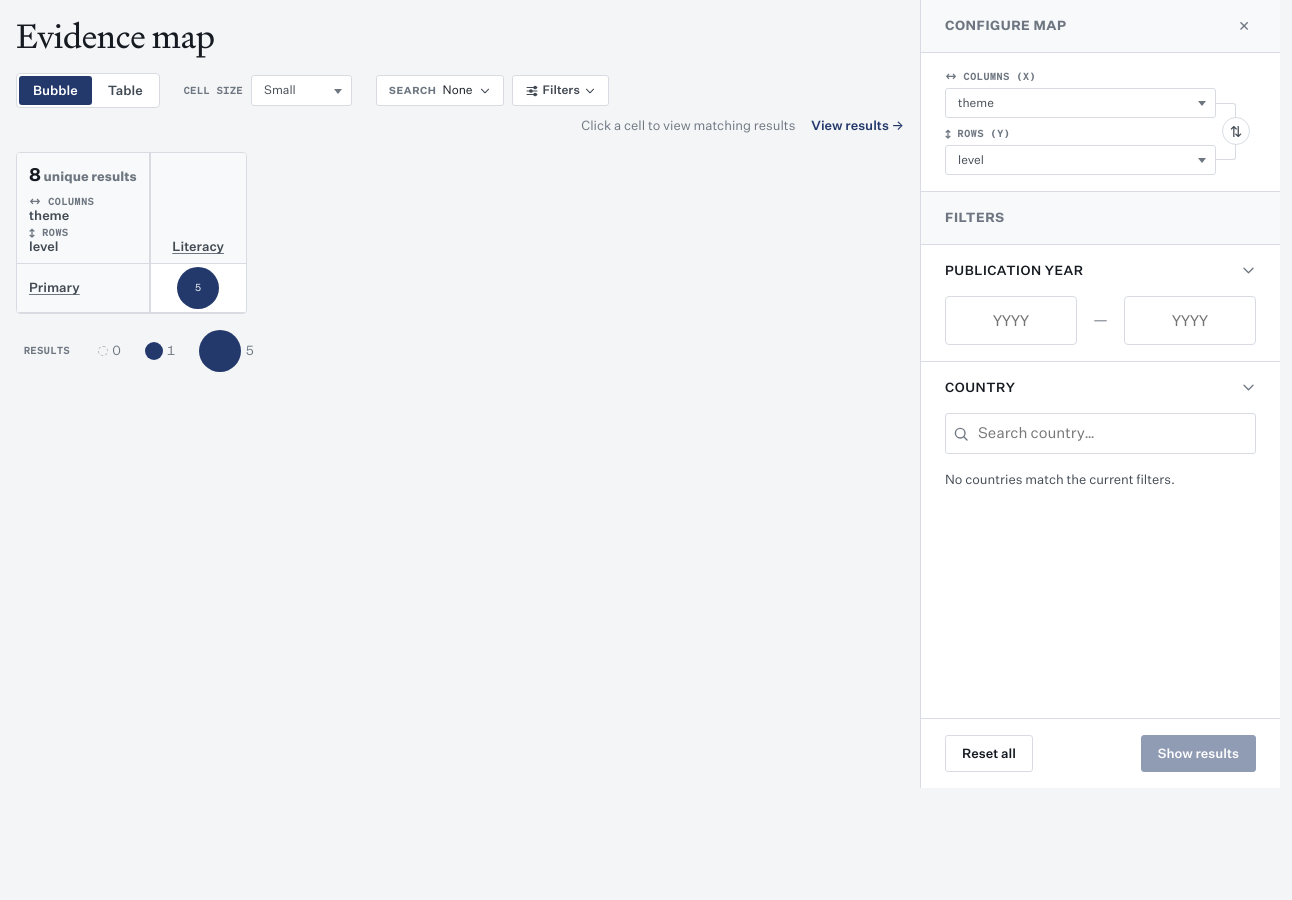
Test case: VisualisePage map › toggling to the table view shows counts as text
Expected: the element with class "evidence-map__legend" is shown, [16,330,262,372]
Click the button "Table".
click(125, 91)  # box [94,76,157,105]
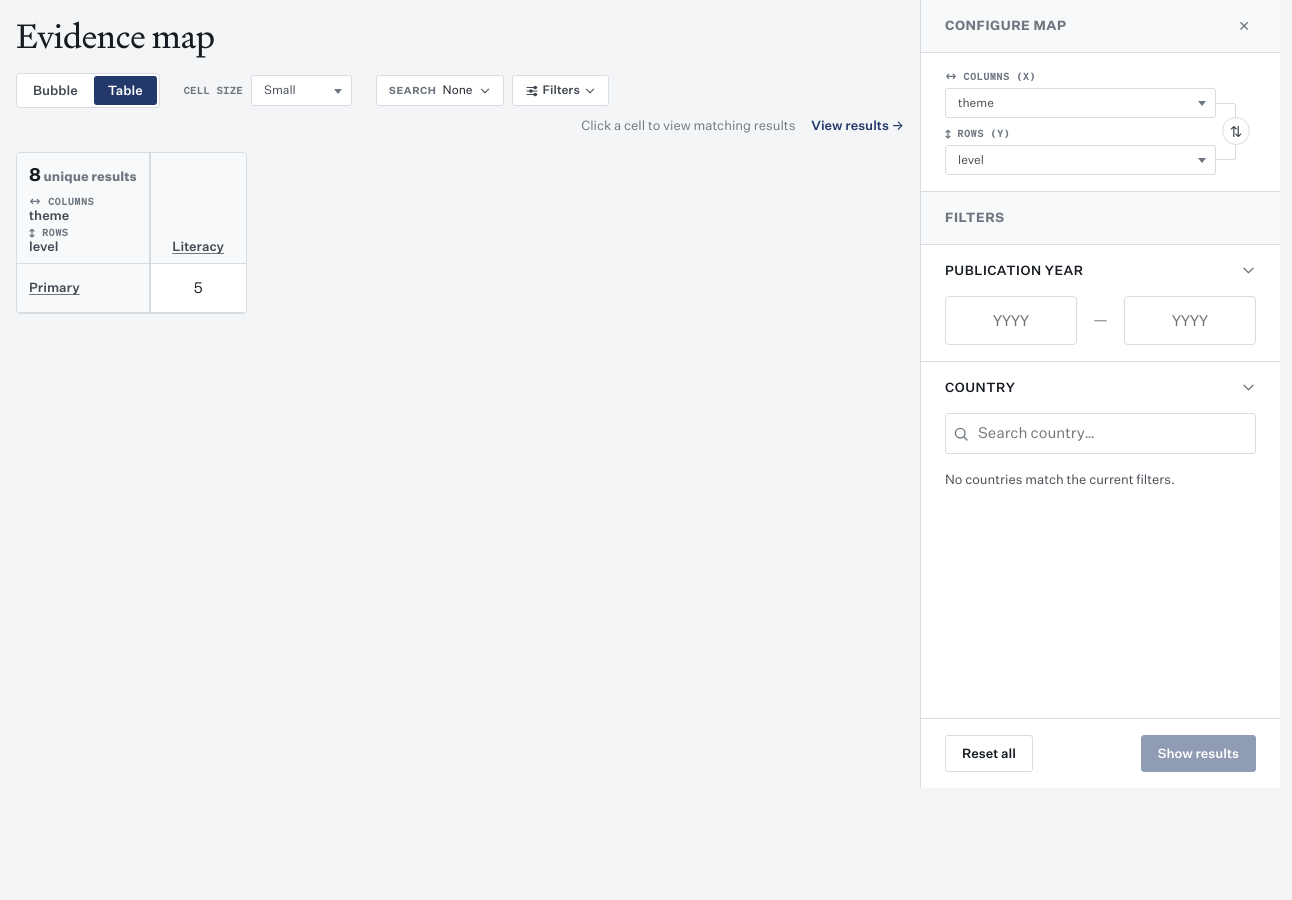
Expected: the text with class "evidence-map__count" reads "5", [193,279,203,296]
Expected: the element with class "evidence-map__legend" is gone
